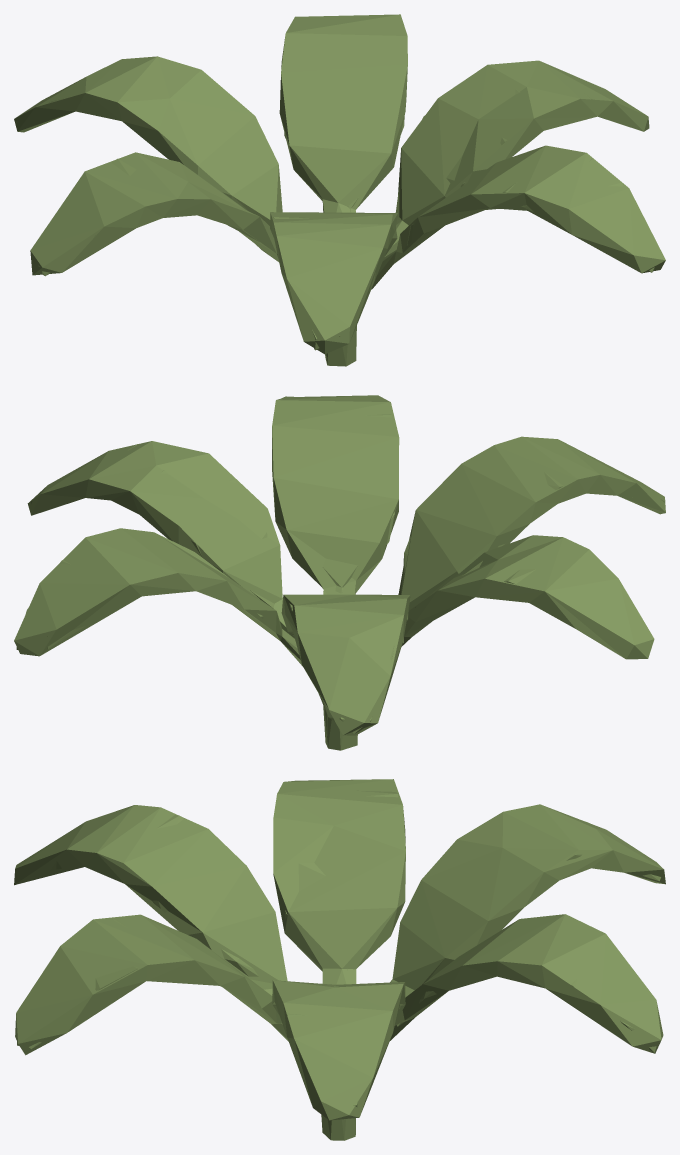
Rendered from ENV_09_FERN_game.glb.
3 renders of one model, top to bottom at view 1: azimuth 30°, elevation 25°; view 2: azimuth 150°, elevation 25°; view 3: azimuth 270°, elevation 25°, orthographic. The views are drawn at different scales.
Visible parts, largest first — view 1: ENV_09_FERN; view 2: ENV_09_FERN; view 3: ENV_09_FERN.
Boxes of the visible parts, bbox=[...] form: ENV_09_FERN: bbox=[14, 14, 665, 366]; ENV_09_FERN: bbox=[14, 395, 665, 750]; ENV_09_FERN: bbox=[14, 779, 665, 1140].
Bounding box in the file's own units: 1.89 × 0.7 × 1.66.
